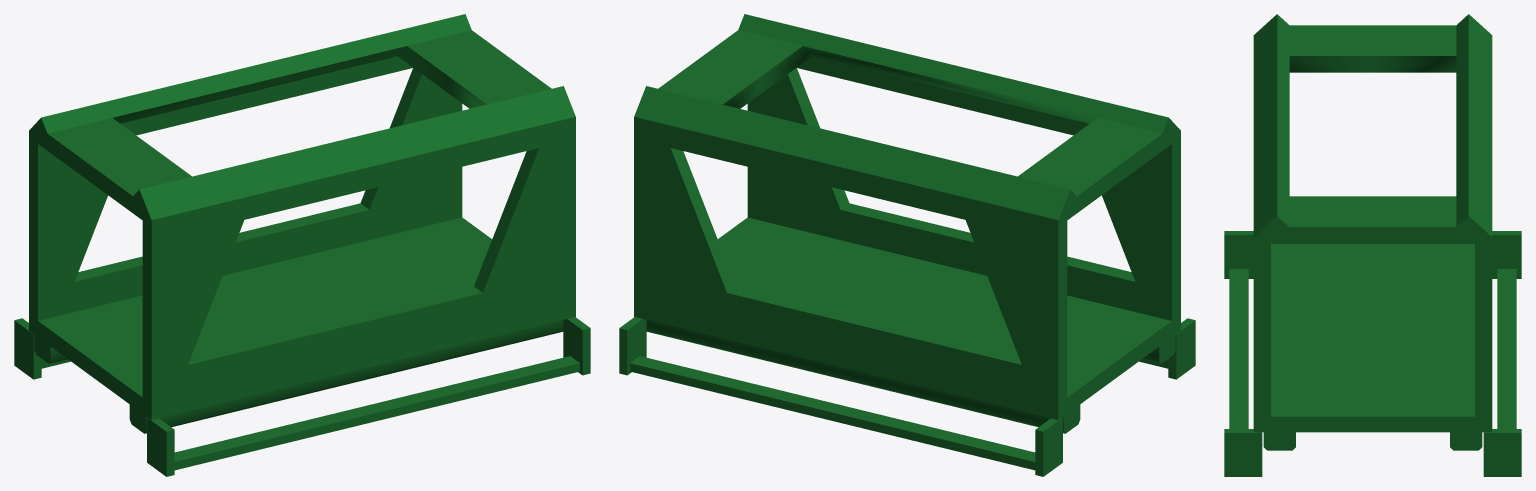
Rendered from SkyBridge.fbx.
The picture shows the model from 3 angles, left to right: view 1: azimuth 30°, elevation 25°; view 2: azimuth 150°, elevation 25°; view 3: azimuth 270°, elevation 25°; orthographic projection. The views are drawn at different scales.
Visible parts, largest first — view 1: SkyBridge; view 2: SkyBridge; view 3: SkyBridge.
Boxes of the visible parts, x1,y1,x2,y2 form: SkyBridge: [14, 14, 590, 476]; SkyBridge: [619, 14, 1195, 476]; SkyBridge: [1224, 14, 1521, 476].
Size of the model in its own units: 800 by 482 by 498.
